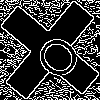O: (25, 25, 85, 85)
